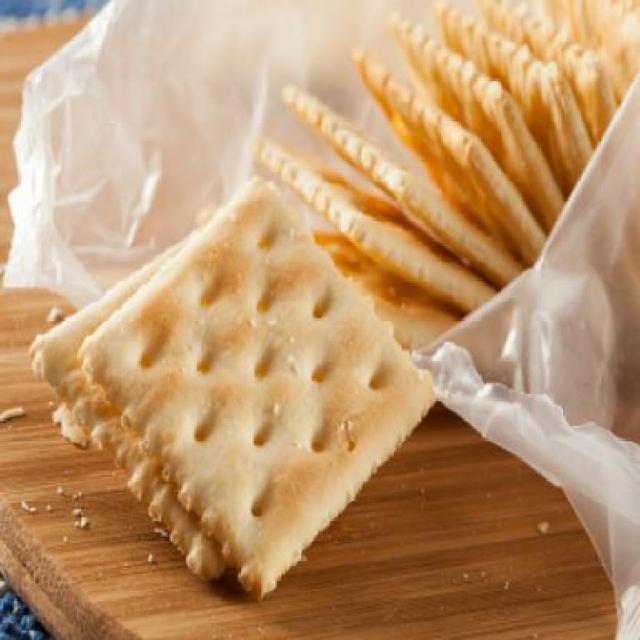Cracker packaged: (100, 175, 442, 594)
